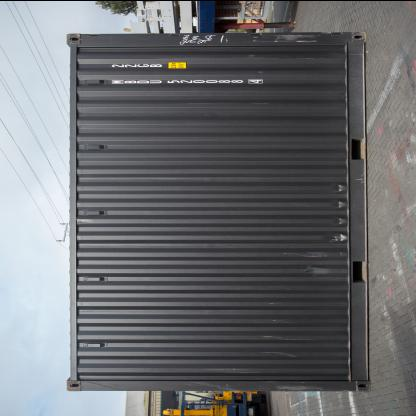Damage: (252, 29, 344, 45), (334, 180, 354, 244), (260, 376, 322, 394), (279, 244, 335, 260), (294, 263, 340, 280), (254, 328, 302, 340), (249, 312, 294, 324), (254, 345, 294, 357)
